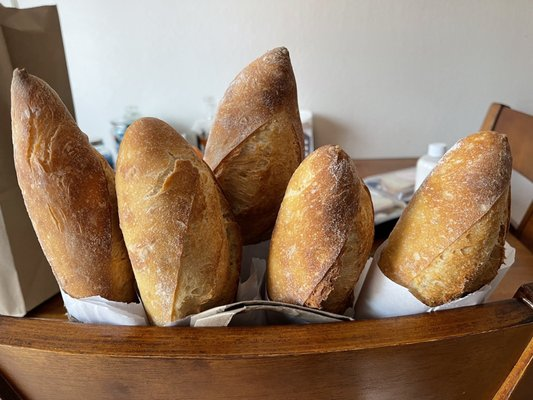pasta: (203, 45, 307, 244)
